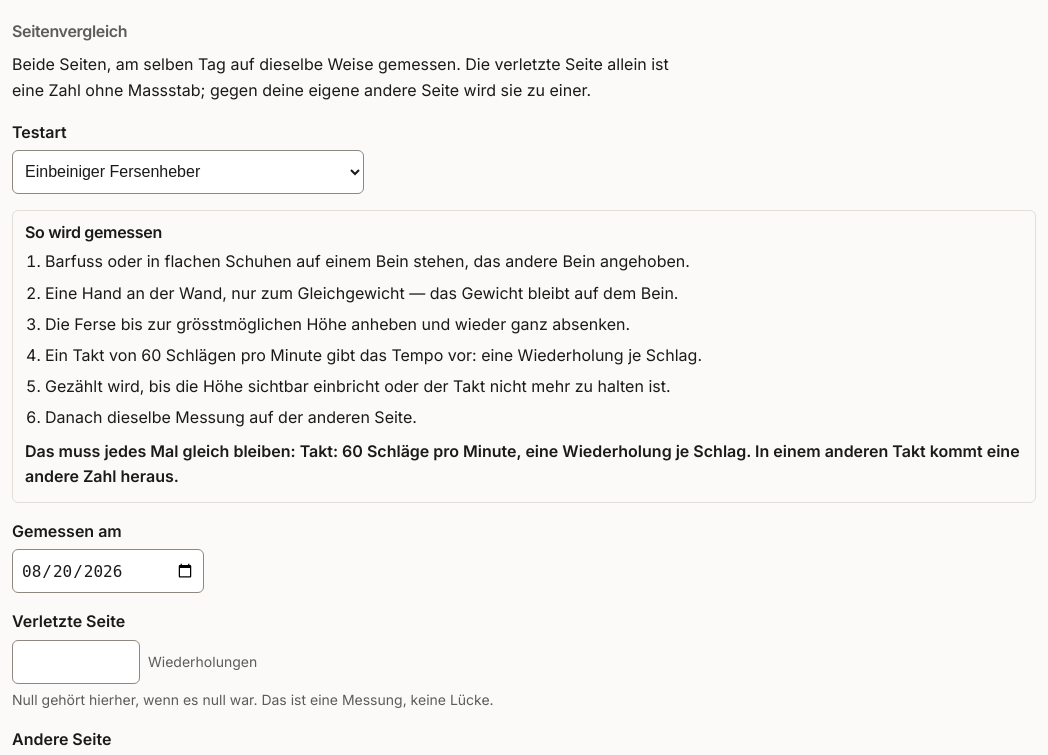
Test: was die Aktion ablehnt, steht auf dem Bildschirm › meldet Erfolg als Status, nicht als Warnung
Type "12" into the field labelled "Verletzte Seite" at [76, 662], box [12, 640, 140, 684]
(page scrolled)
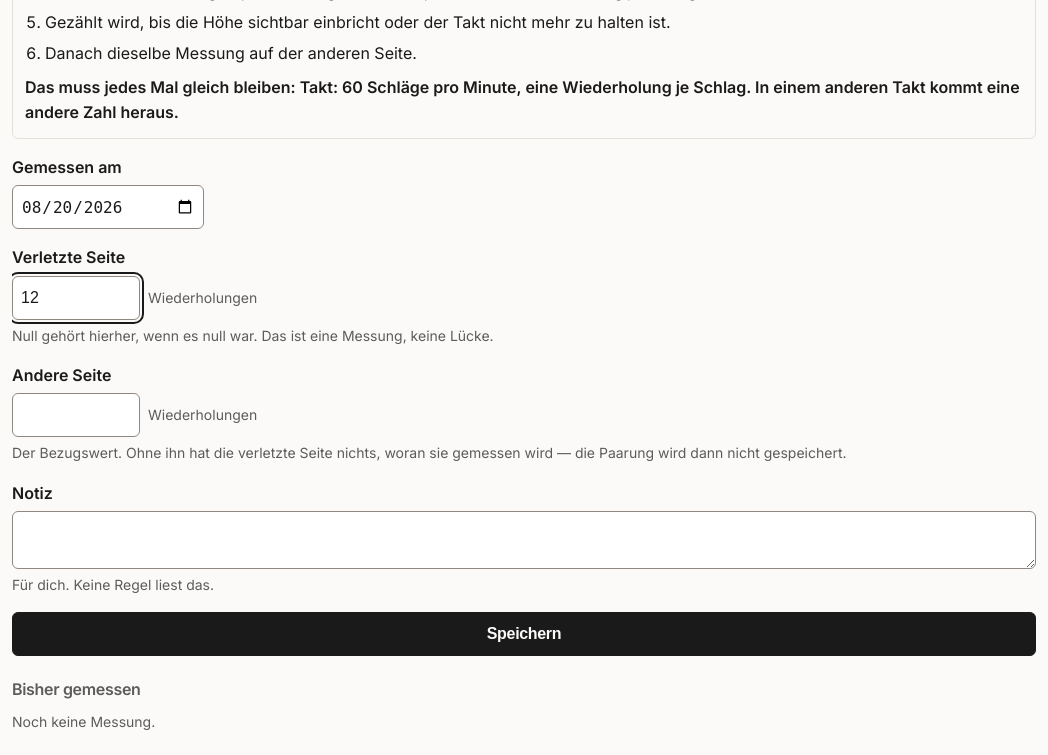
Type "18" into the field labelled "Andere Seite" at [76, 415], box [12, 393, 140, 437]
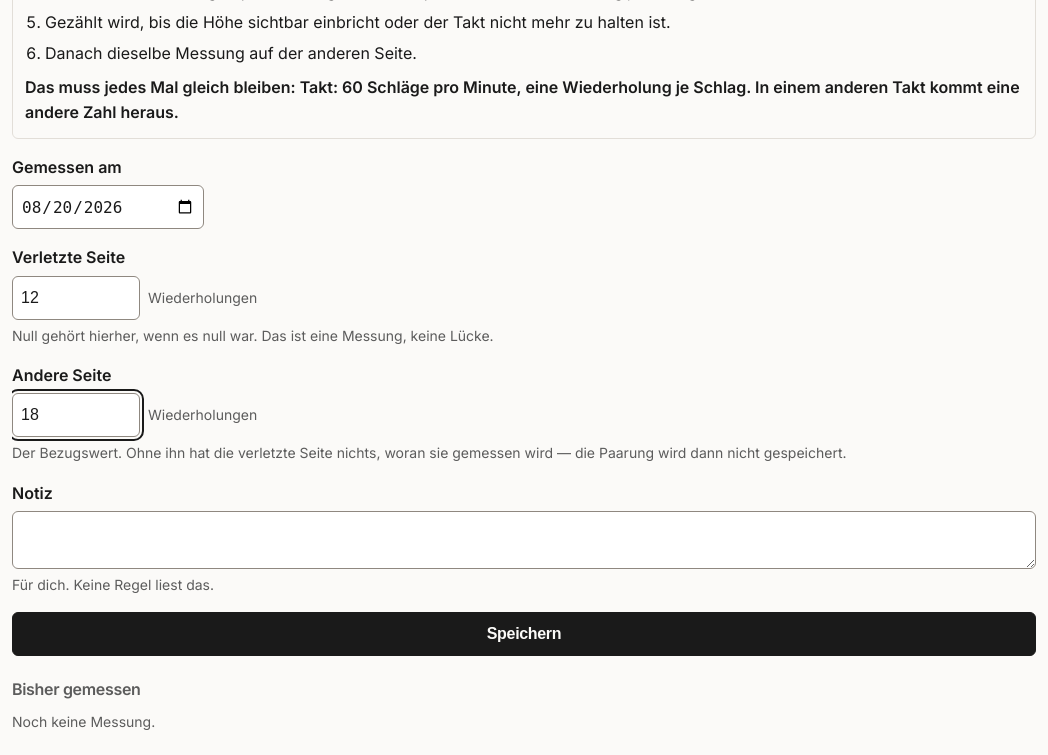
Click the button "Speichern" at [524, 634], box [12, 612, 1036, 656]
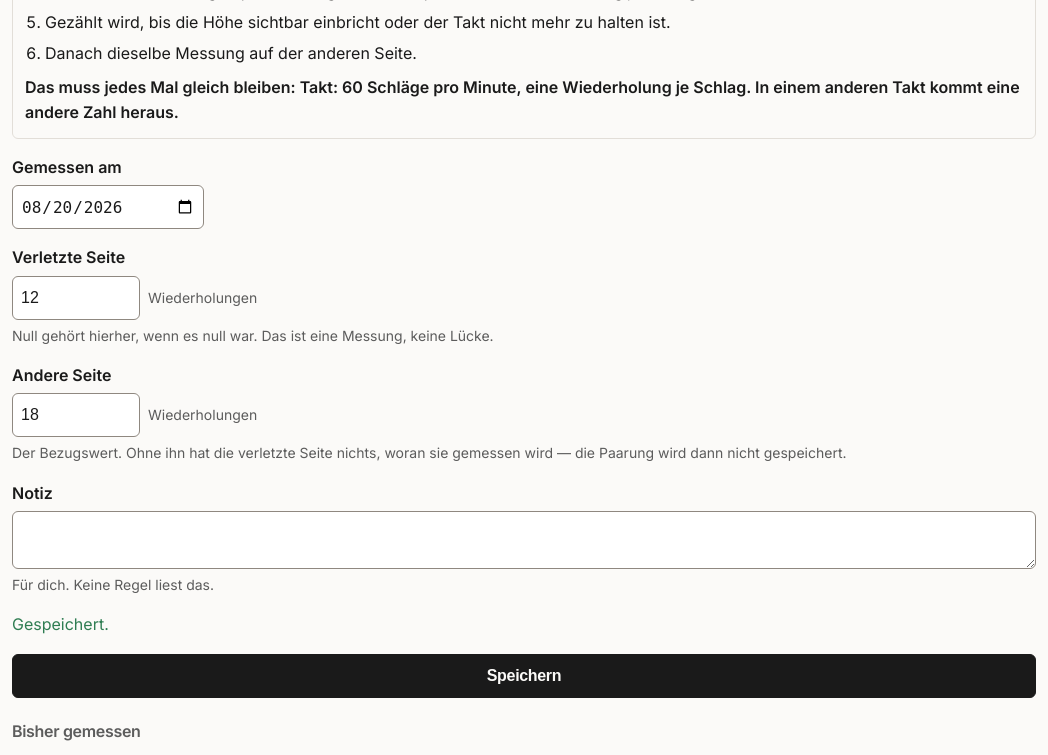
Check: the text "Gespeichert." is shown, box [12, 614, 109, 634]
